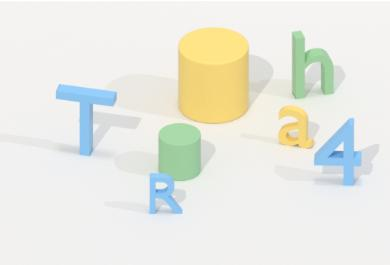0-KhoiTru: (175, 26, 253, 127), (155, 119, 205, 183)
4: (312, 116, 364, 190)
R: (147, 171, 183, 217)
T: (52, 79, 122, 161)
a: (277, 102, 315, 155)
h: (290, 29, 339, 101)
